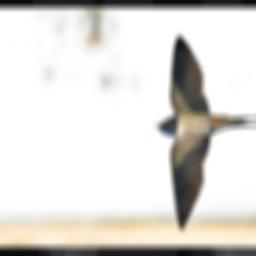Swallow: (154, 30, 256, 233)
